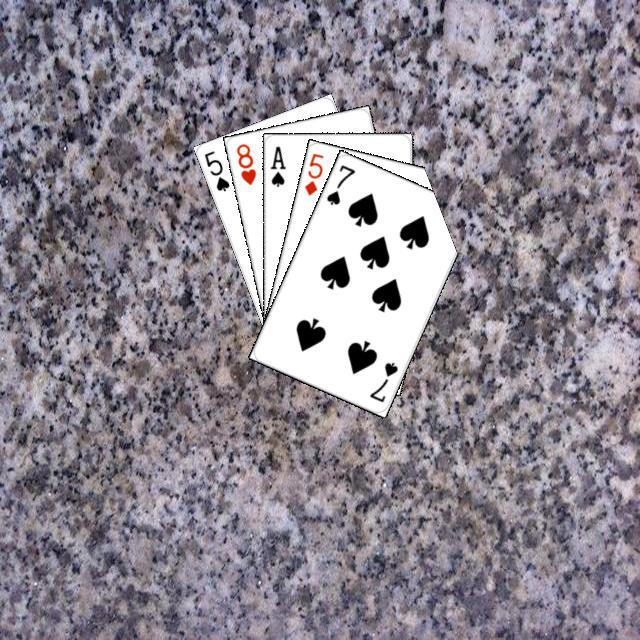5d: (299, 148, 325, 197)
5s: (199, 146, 231, 193)
7s: (321, 160, 357, 207), (364, 357, 400, 404)
8h: (231, 139, 258, 186)
As: (265, 141, 287, 188)
